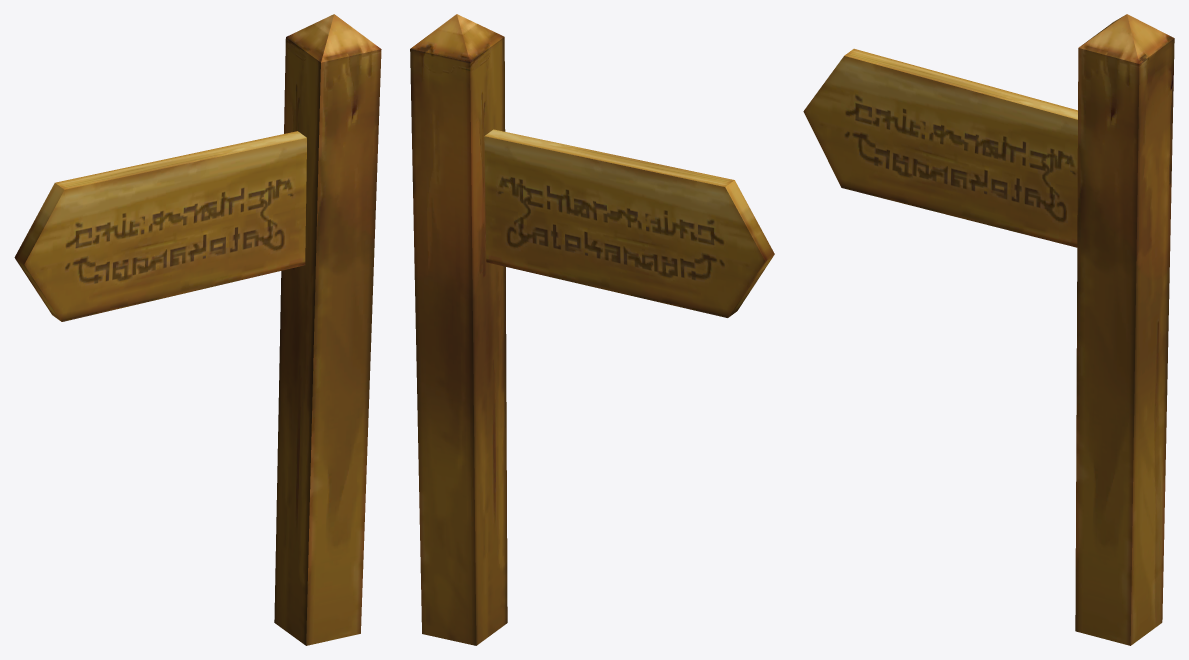
The model's file is Gimmick_Kanban_004.fbx.
3 views of the same model, side by side, from view 1: azimuth 30°, elevation 25°; view 2: azimuth 150°, elevation 25°; view 3: azimuth 330°, elevation 25° (orthographic).
Visible parts, largest first — view 1: Gimmick_Kanban_004; view 2: Gimmick_Kanban_004; view 3: Gimmick_Kanban_004.
Boxes of the visible parts, bbox=[...] form: Gimmick_Kanban_004: bbox=[14, 14, 381, 645]; Gimmick_Kanban_004: bbox=[410, 14, 774, 645]; Gimmick_Kanban_004: bbox=[803, 14, 1174, 645].
Size of the model in its own units: 0.8549 by 1.45 by 0.1614.
